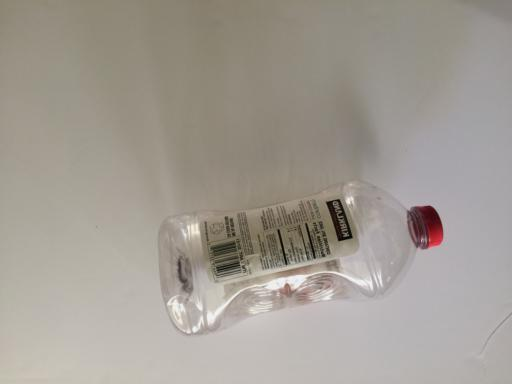bottle: (134, 176, 457, 335)
